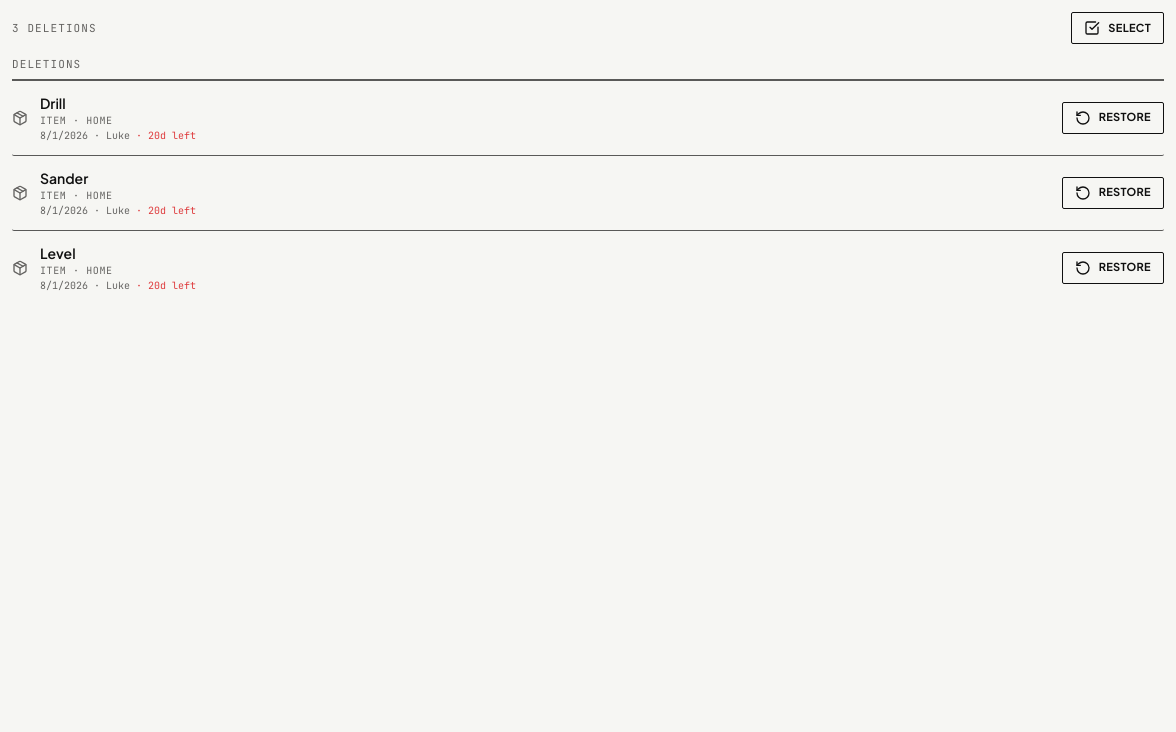
bulk Restore loops sequentially, continues past a failure, and reports a truthful outcome
Expected: the text "Drill" is shown, [40,94,66,112]
Click the button "Select" at point(1118, 28), box [1071,12,1164,44]
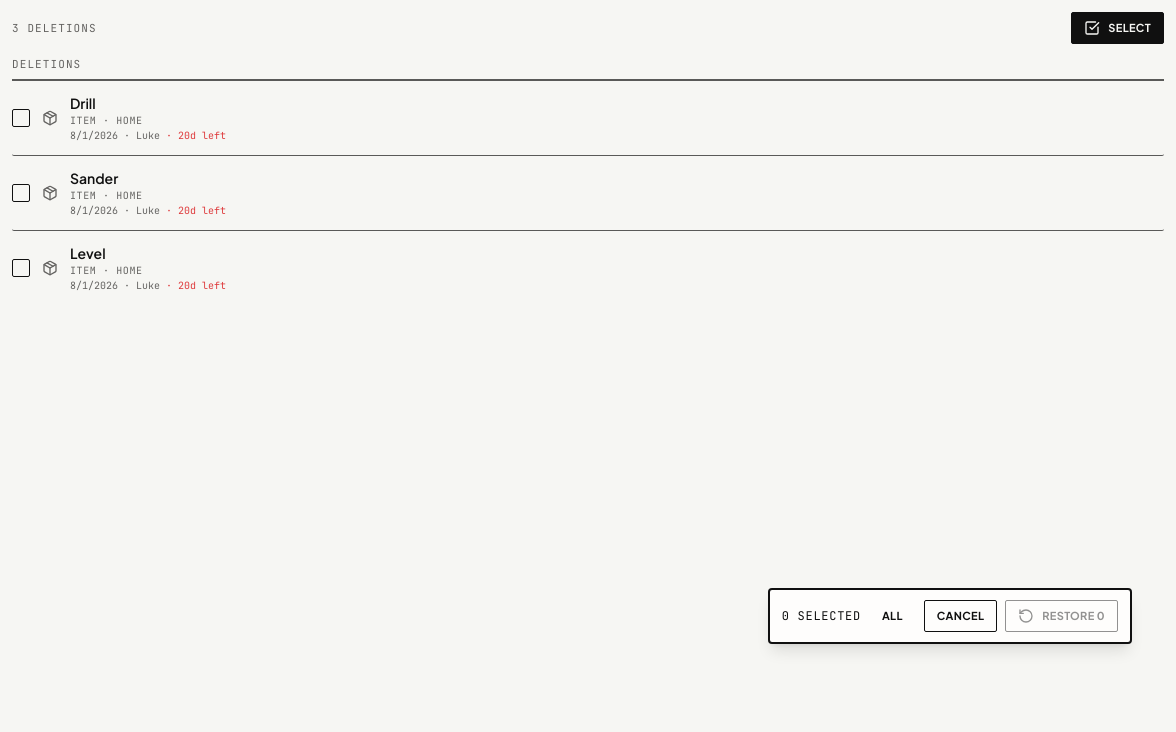
Click the button "All" at point(892, 616), box [869,600,916,632]
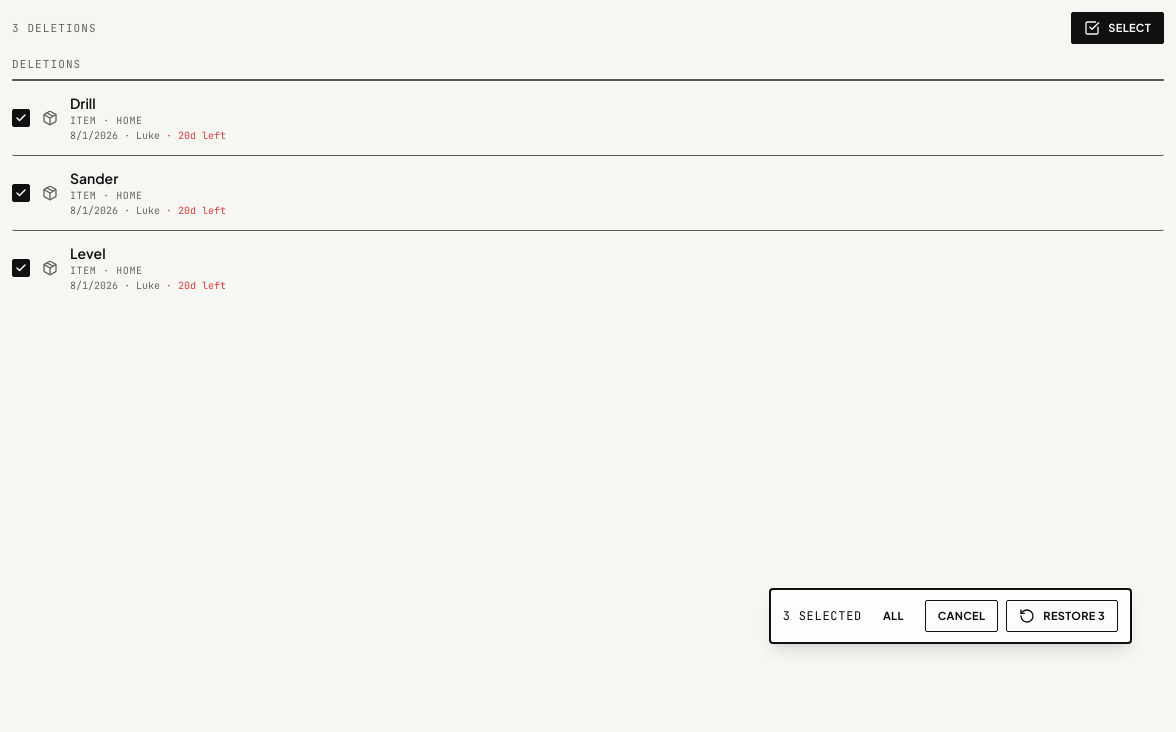
Click the button "Restore 3" at point(1062, 616), box [1006,600,1118,632]
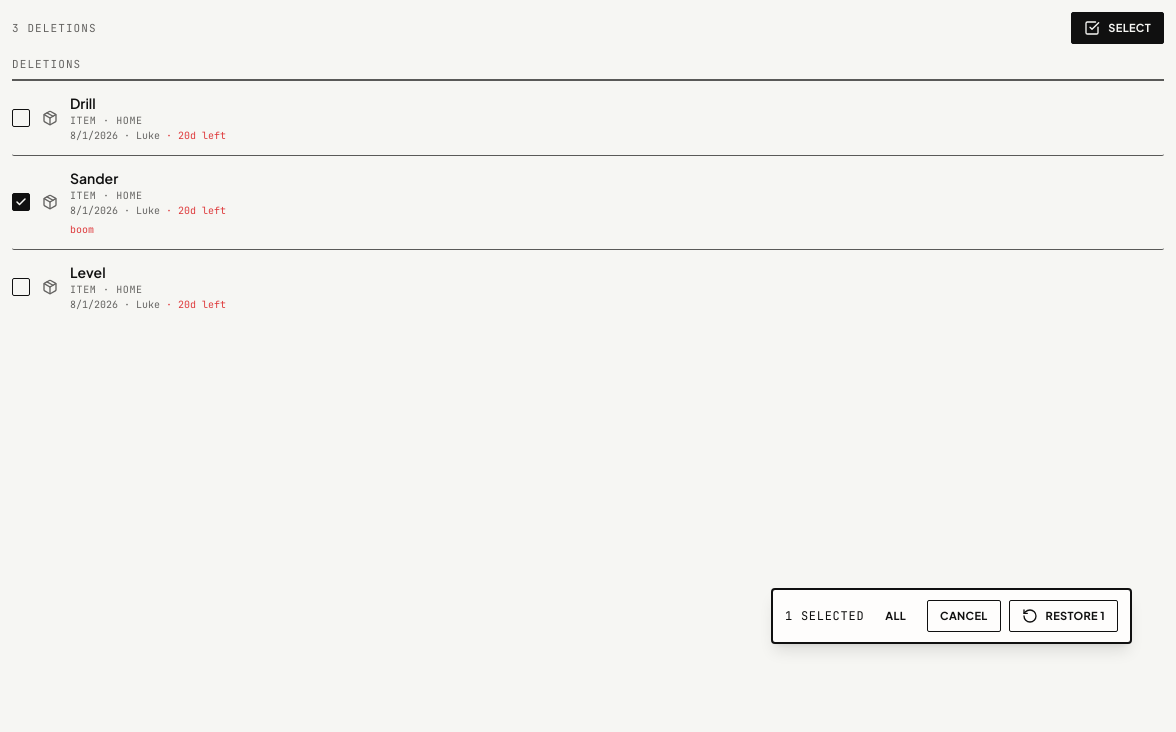
Now the text "1 selected" is shown, box [785,608,864,624]
